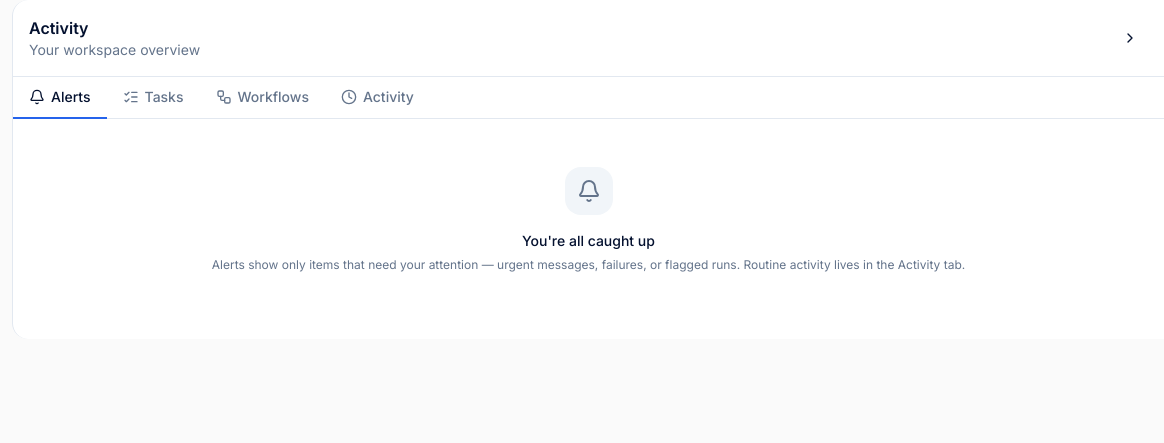
Test: ContextPanel › explains how to create workflows when the tab is empty
Click the button "Workflows". click: (262, 98)
box: [200,77,325,119]
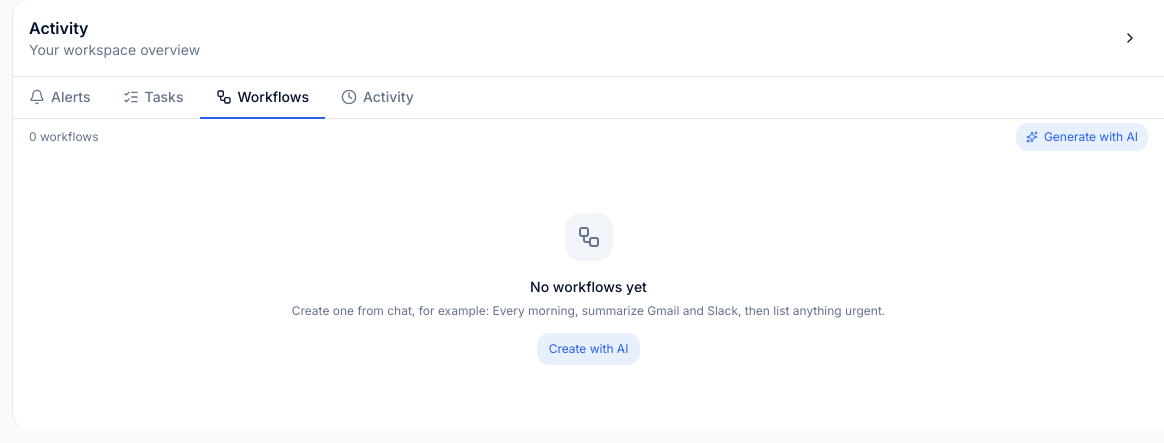
Expected: the text "summarize Gmail and Slack" is shown, [292,303,885,318]
Expected: the button "Create with AI" is shown, [537,332,640,364]
